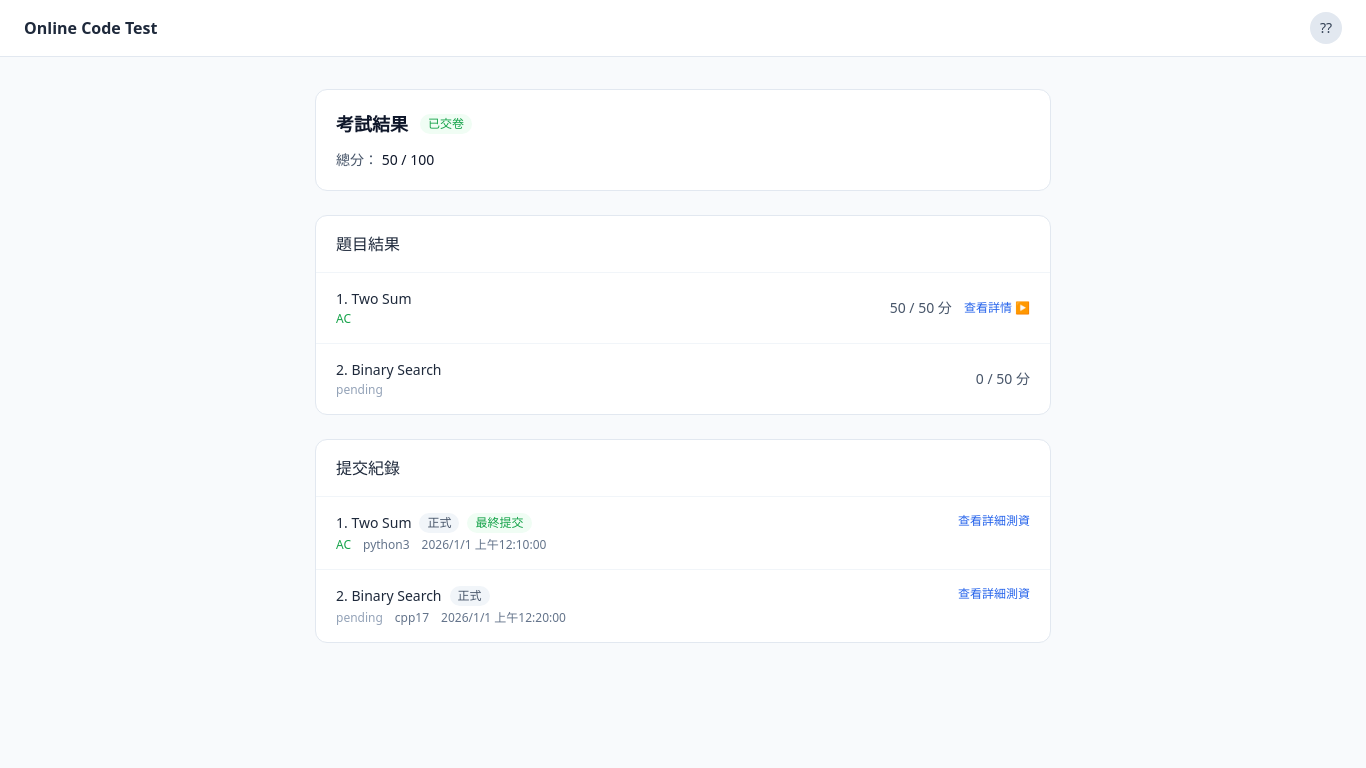
Test case: CandidateResultPage › expands candidate history details with public and hidden testcase verdicts
Click the button with aria-label "查看詳細測資：提交 9001" at {"x": 994, "y": 521}, box [958,513,1030,529]
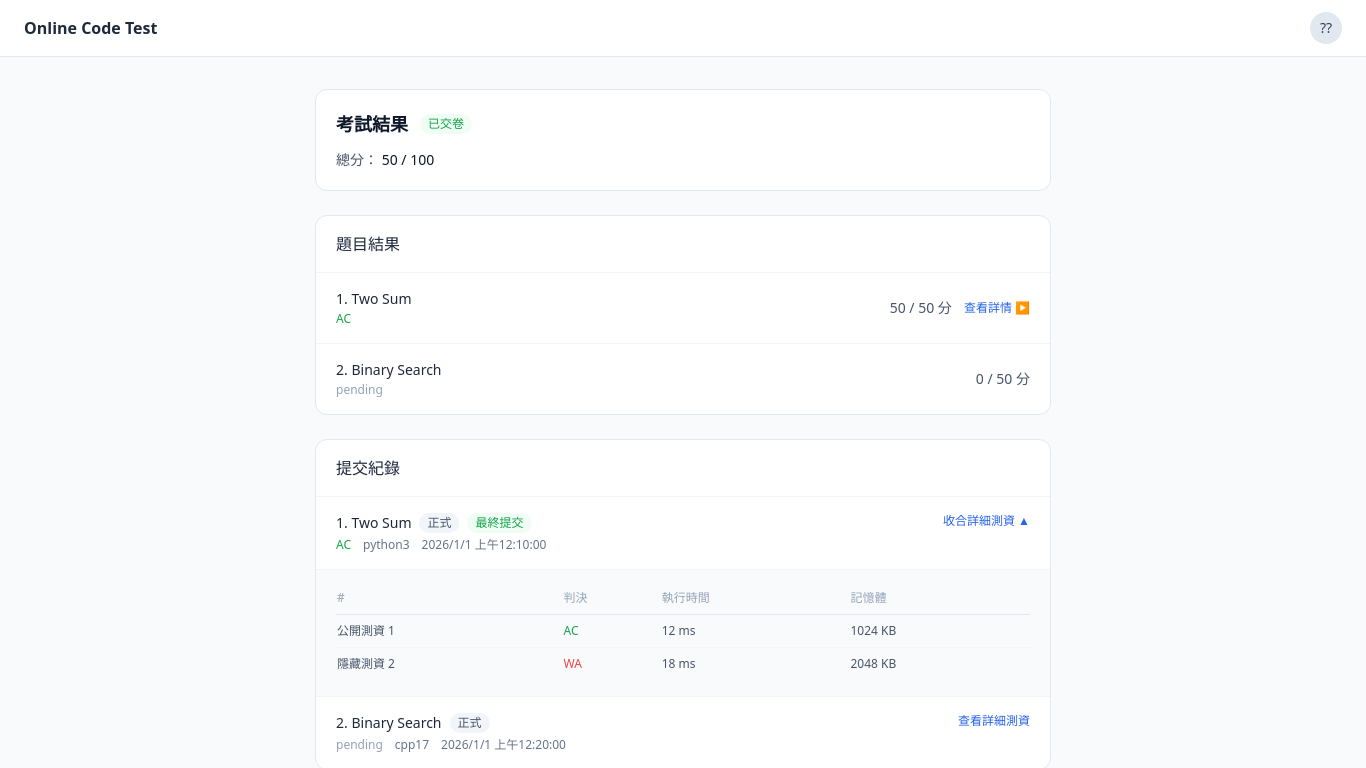
Check: the text "公開測資 1" is shown, box [336,614,562,648]
Check: the text "隱藏測資 2" is shown, box [336,648,562,680]
